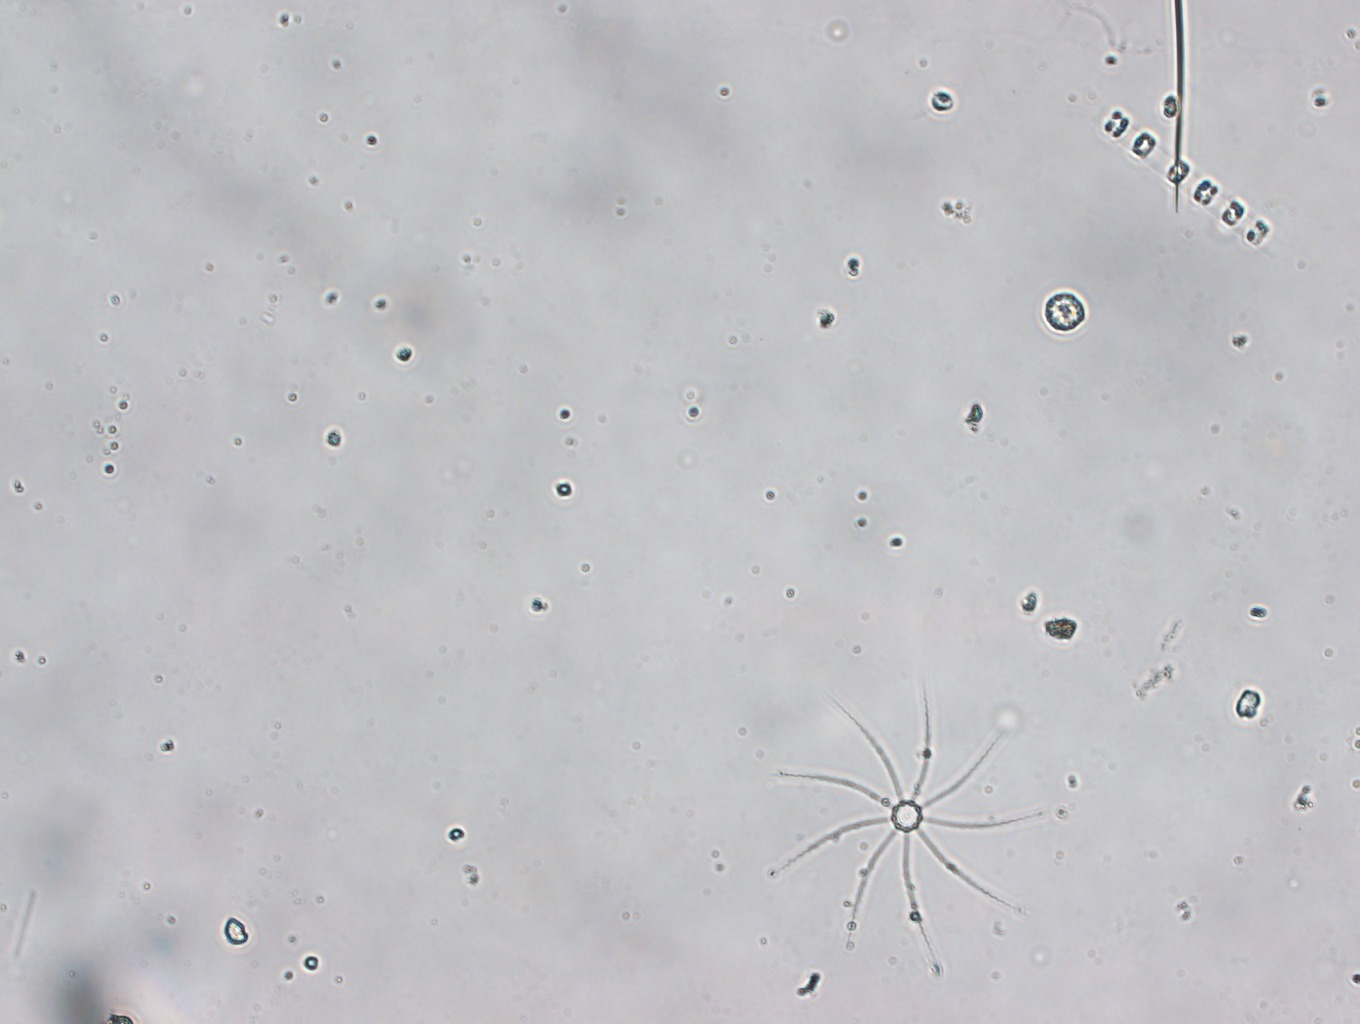bacteriastrum: (760, 679, 1055, 976)
skeletonema: (1099, 108, 1277, 251)
